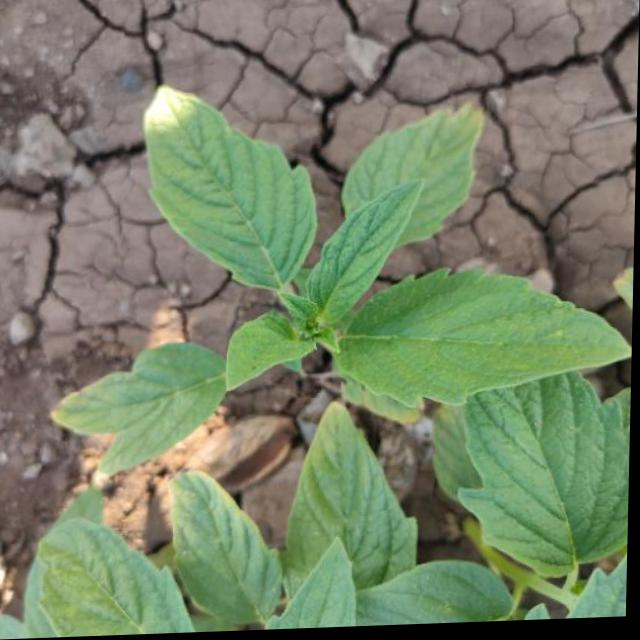crop: (76, 80, 638, 488)
